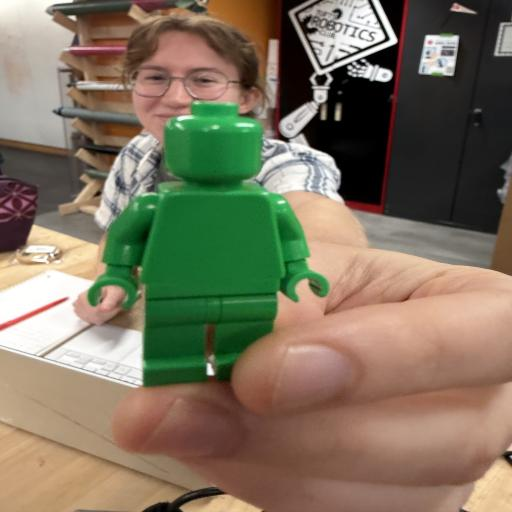Green-Lego: (88, 102, 329, 386)
